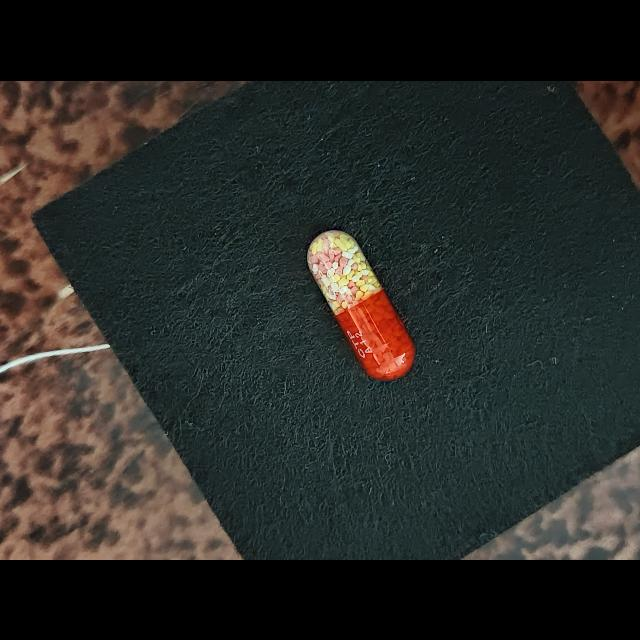Intact Capsule: (307, 229, 415, 380)
